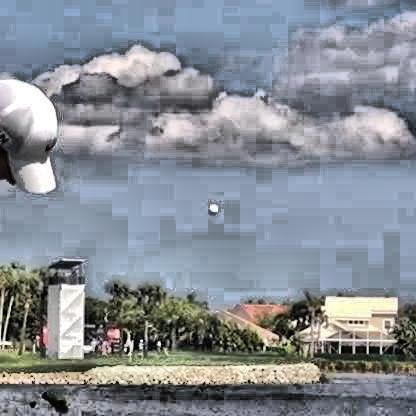golfball: (206, 202, 221, 216)
